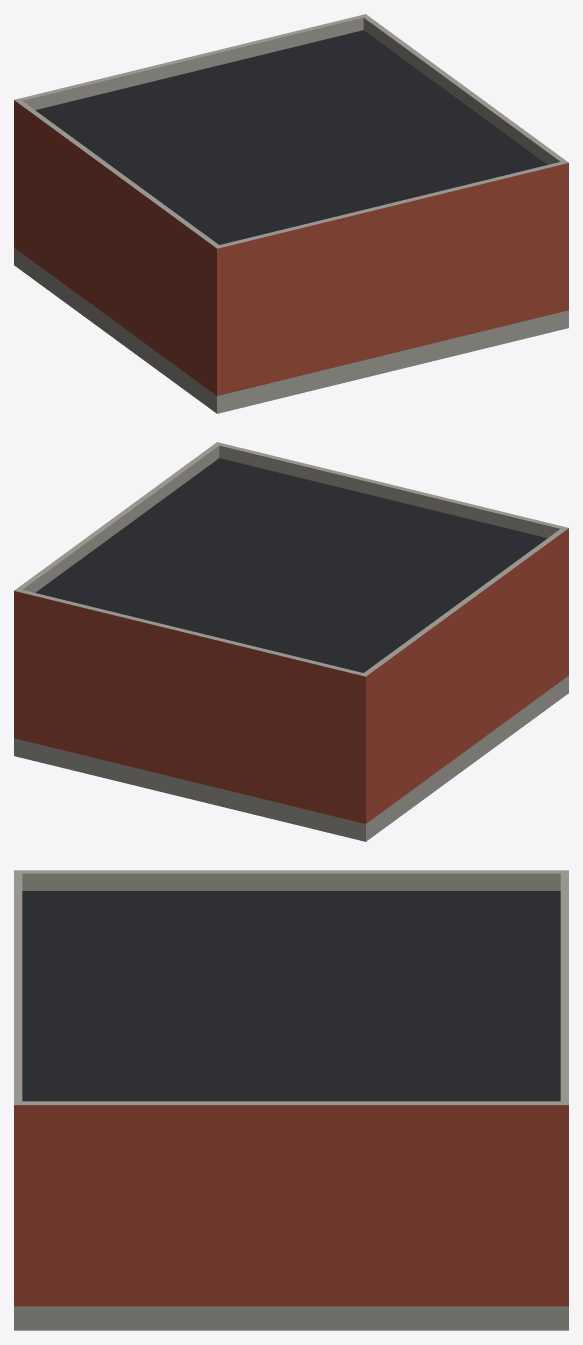
File: far.fbx
The picture shows the model from 3 angles, top to bottom: view 1: azimuth 30°, elevation 25°; view 2: azimuth 150°, elevation 25°; view 3: azimuth 270°, elevation 25°; orthographic projection. The views are drawn at different scales.
Visible parts, largest first — view 1: a2013/700/far; view 2: a2013/700/far; view 3: a2013/700/far.
Boxes of the visible parts, left/top/right/bottom form: a2013/700/far: left=14, top=14, right=568, bottom=413; a2013/700/far: left=14, top=442, right=568, bottom=841; a2013/700/far: left=14, top=870, right=568, bottom=1330.
Bounding box in the file's own units: 20 × 8.98 × 20.
